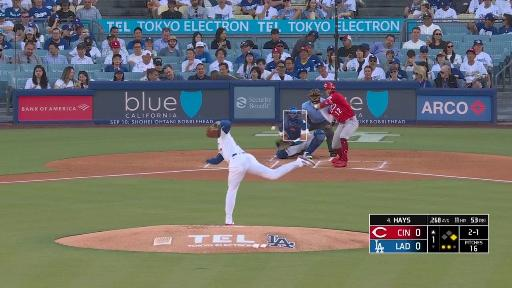pitcher: (204, 119, 315, 225)
